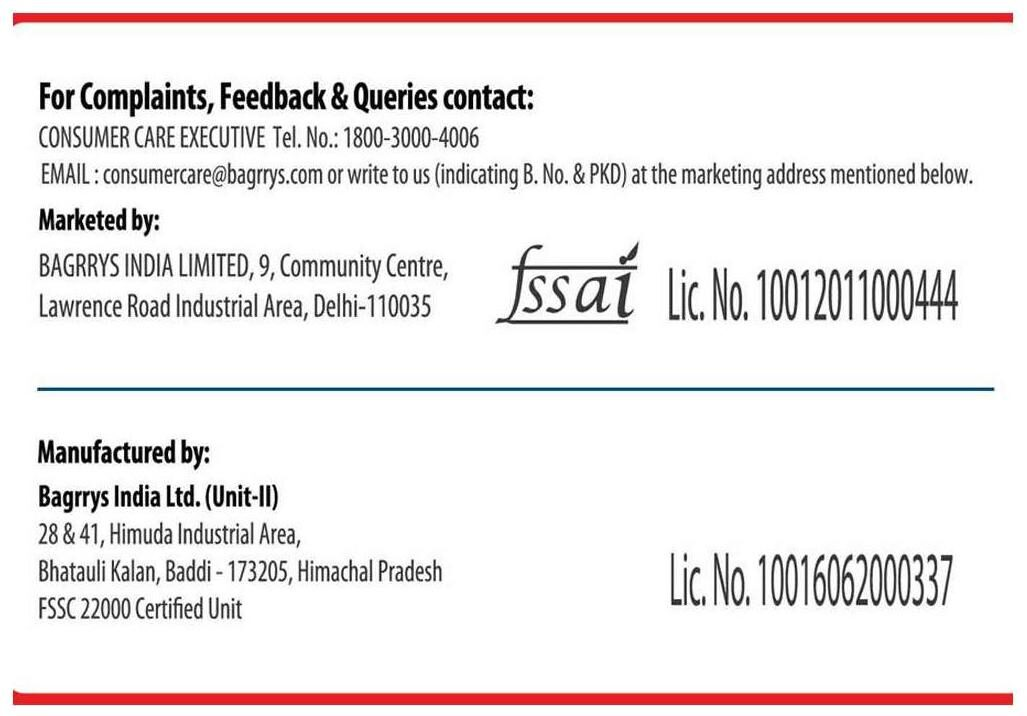fssai: (494, 242, 640, 327)
